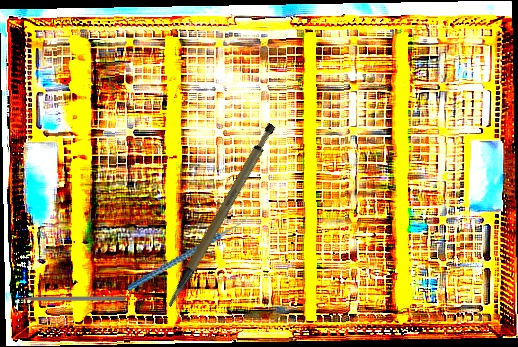Chopper: (117, 207, 260, 293), (8, 290, 126, 301)
Scalpel Handle: (139, 119, 299, 309)
